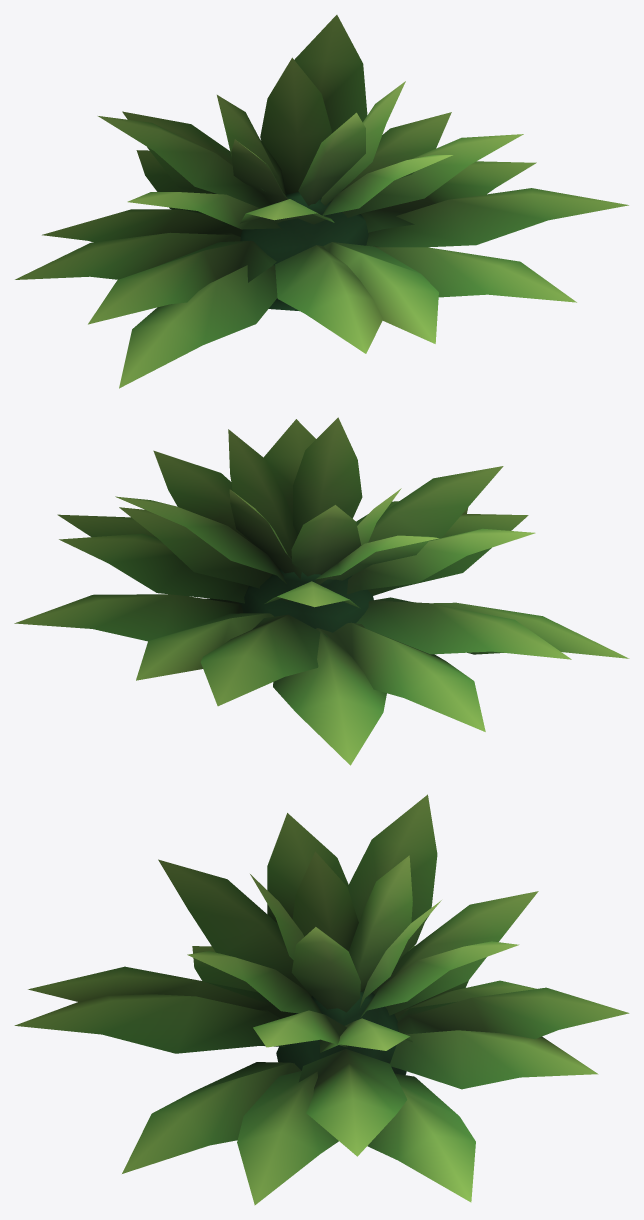
The model's file is deco-bush-v2.glb.
The picture shows the model from 3 angles, top to bottom: view 1: azimuth 30°, elevation 25°; view 2: azimuth 150°, elevation 25°; view 3: azimuth 270°, elevation 25°; orthographic projection. The views are drawn at different scales.
Parts seen in each view (by area): view 1: 0_bush; view 2: 0_bush; view 3: 0_bush.
Boxes of the visible parts, box(x1,y1,x2,y2) form: 0_bush: box(15, 15, 628, 388); 0_bush: box(14, 417, 629, 765); 0_bush: box(14, 794, 629, 1205).
Size of the model in its own units: 2.25 by 0.8908 by 1.99.
